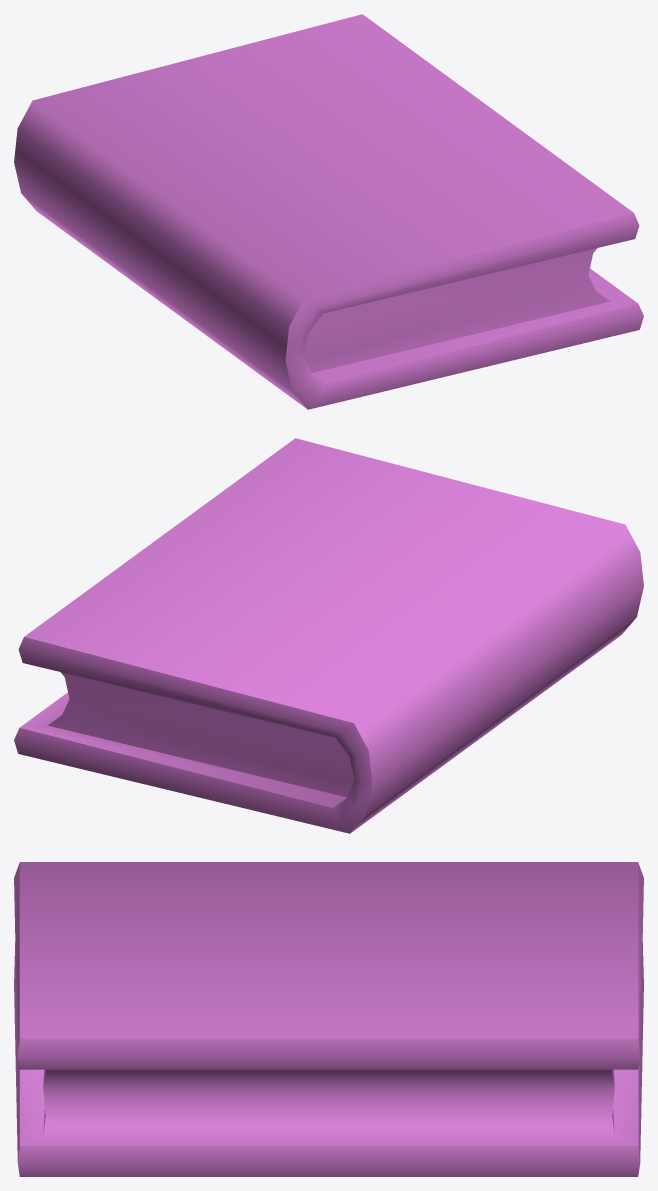
File: Book.FBX
3 views of the same model, one above another, from view 1: azimuth 30°, elevation 25°; view 2: azimuth 150°, elevation 25°; view 3: azimuth 270°, elevation 25° (orthographic). The views are drawn at different scales.
Parts seen in each view (by area): view 1: Book_2; view 2: Book_2; view 3: Book_2.
Part boxes in pixels (box(x1,y1,x2,y2)): Book_2: box(14, 14, 643, 409); Book_2: box(14, 438, 643, 833); Book_2: box(14, 862, 643, 1176).
Size of the model in its own units: 0.3308 by 0.1047 by 0.443.
